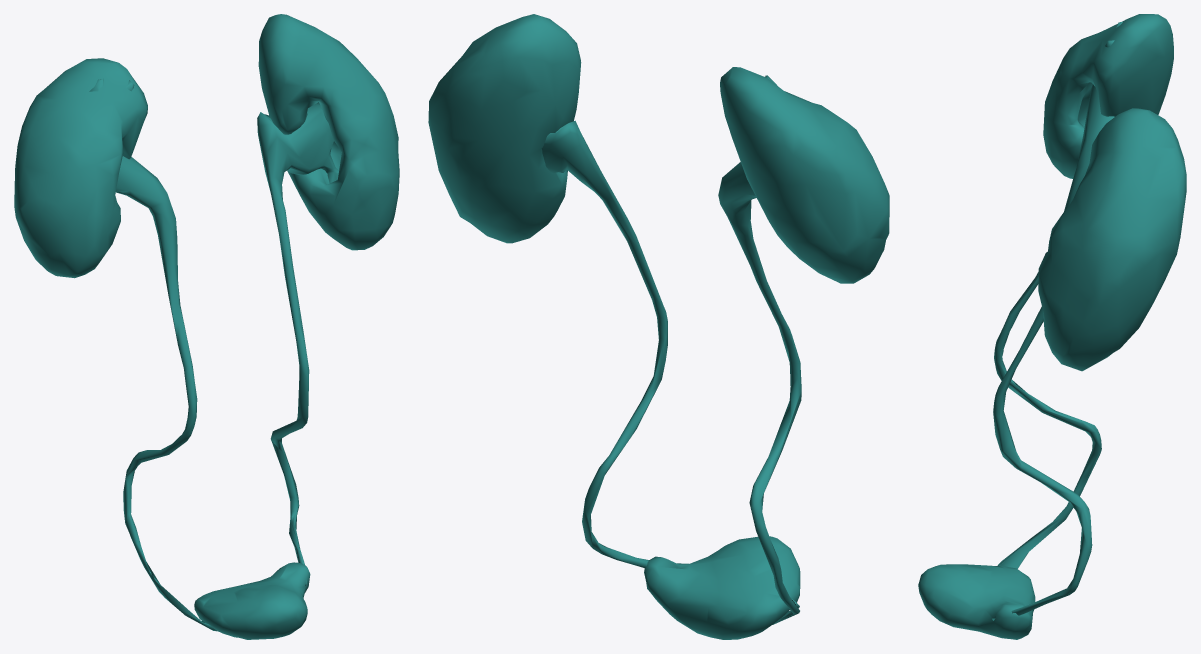
Rendered from urinary.glb.
3 views of the same model, side by side, from view 1: azimuth 30°, elevation 25°; view 2: azimuth 150°, elevation 25°; view 3: azimuth 270°, elevation 25° (orthographic). The views are drawn at different scales.
Parts seen in each view (by area): view 1: VF_kidney_right, VF_kidney_left, W_FJ3144, W_FJ3146, VF_urinary_bladder; view 2: VF_kidney_left, VF_kidney_right, VF_urinary_bladder, W_FJ3144, W_FJ3146; view 3: VF_kidney_left, VF_kidney_right, VF_urinary_bladder, W_FJ3146, W_FJ3144.
Boxes of the visible parts, <box> form: VF_kidney_right: <box>14,58,147,278</box>; VF_kidney_left: <box>258,14,399,250</box>; W_FJ3144: <box>257,102,338,585</box>; W_FJ3146: <box>89,79,217,631</box>; VF_urinary_bladder: <box>194,562,310,639</box>; VF_kidney_left: <box>428,14,581,243</box>; VF_kidney_right: <box>720,67,889,283</box>; VF_urinary_bladder: <box>644,536,800,639</box>; W_FJ3144: <box>541,120,667,568</box>; W_FJ3146: <box>718,75,801,624</box>; VF_kidney_left: <box>1038,108,1186,371</box>; VF_kidney_right: <box>1043,14,1173,178</box>; VF_urinary_bladder: <box>918,564,1035,639</box>; W_FJ3146: <box>994,22,1122,568</box>; W_FJ3144: <box>992,139,1144,620</box>.
Size of the model in its own units: 0.2198 by 0.3028 by 0.1284.
